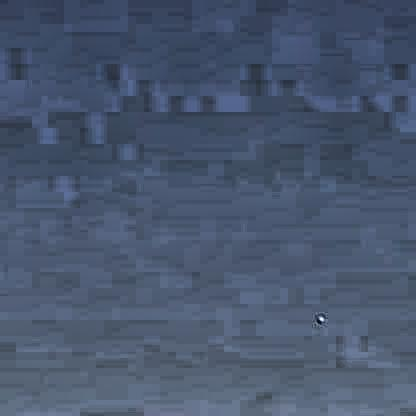golfball: (314, 314, 323, 321)
